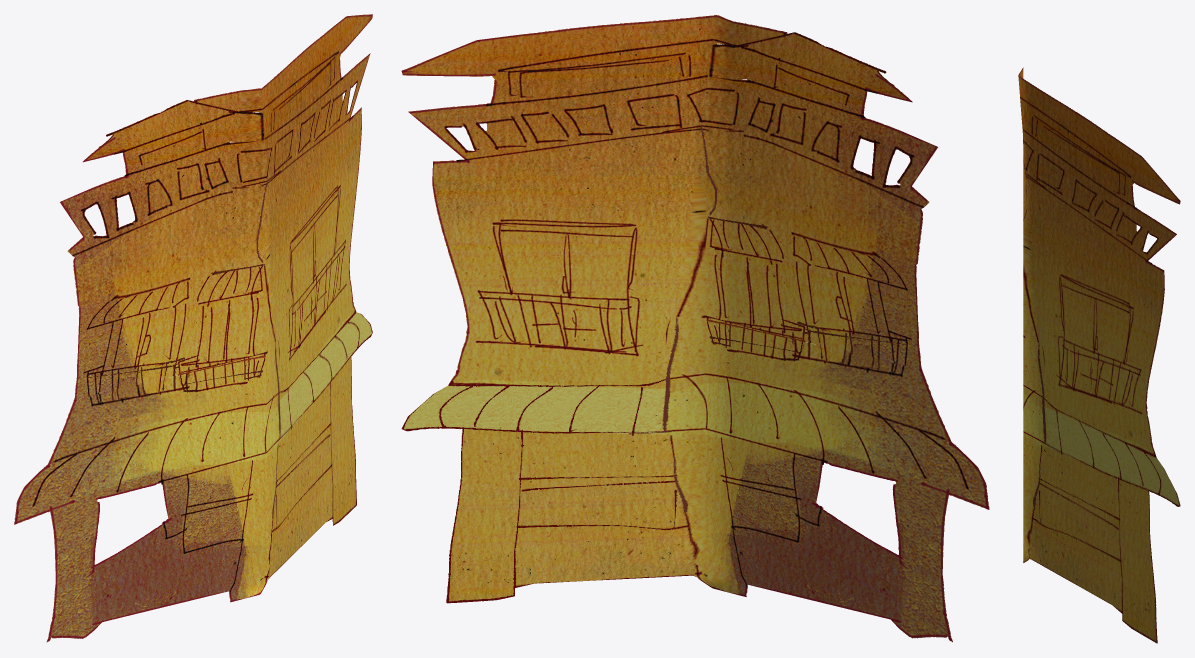
Rendered from 02_front_bld_01.fbx.
3 renders of one model, left to right at view 1: azimuth 30°, elevation 25°; view 2: azimuth 150°, elevation 25°; view 3: azimuth 270°, elevation 25°, orthographic. The views are drawn at different scales.
Parts seen in each view (by area): view 1: 02_前_房子_01; view 2: 02_前_房子_01; view 3: 02_前_房子_01.
Part boxes in pixels (x1,y1,x2,y2): 02_前_房子_01: (14, 14, 372, 642); 02_前_房子_01: (401, 15, 989, 642); 02_前_房子_01: (1018, 67, 1180, 643).
Size of the model in its own units: 179 by 200 by 59.69.
Materials: 1 (1 with a texture image).
